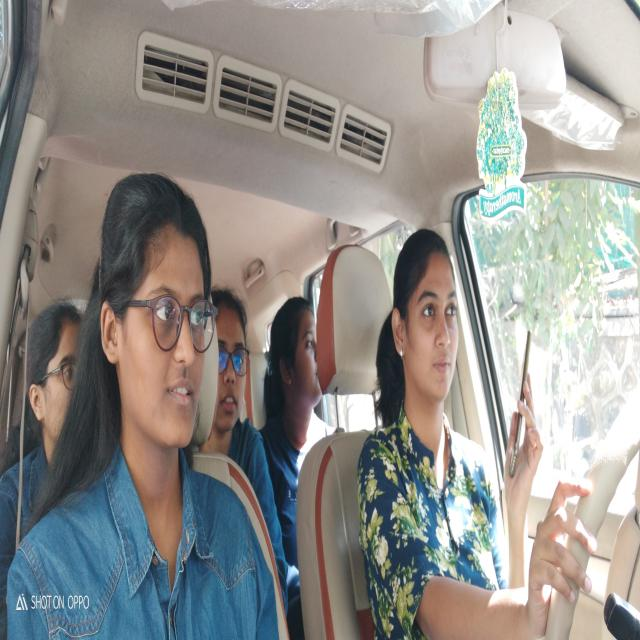mobile: (508, 316, 546, 484)
person: (87, 153, 225, 489), (385, 203, 469, 434), (262, 284, 326, 454), (214, 259, 259, 468), (29, 290, 86, 449)
